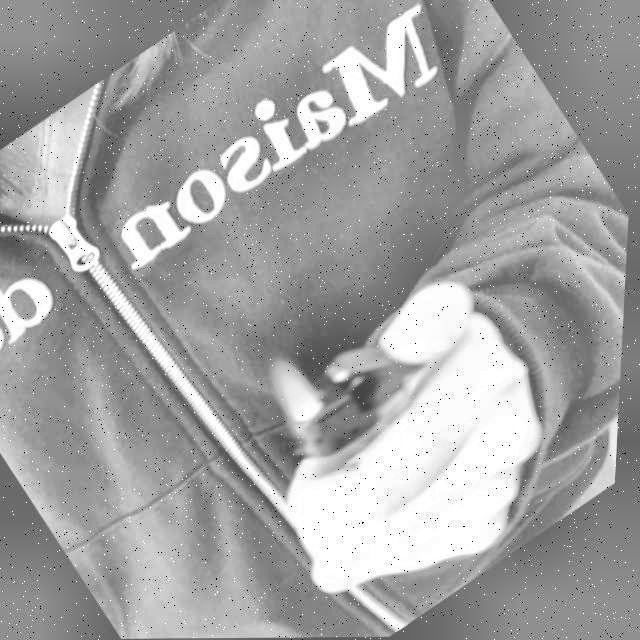Fire: (258, 347, 333, 428)
